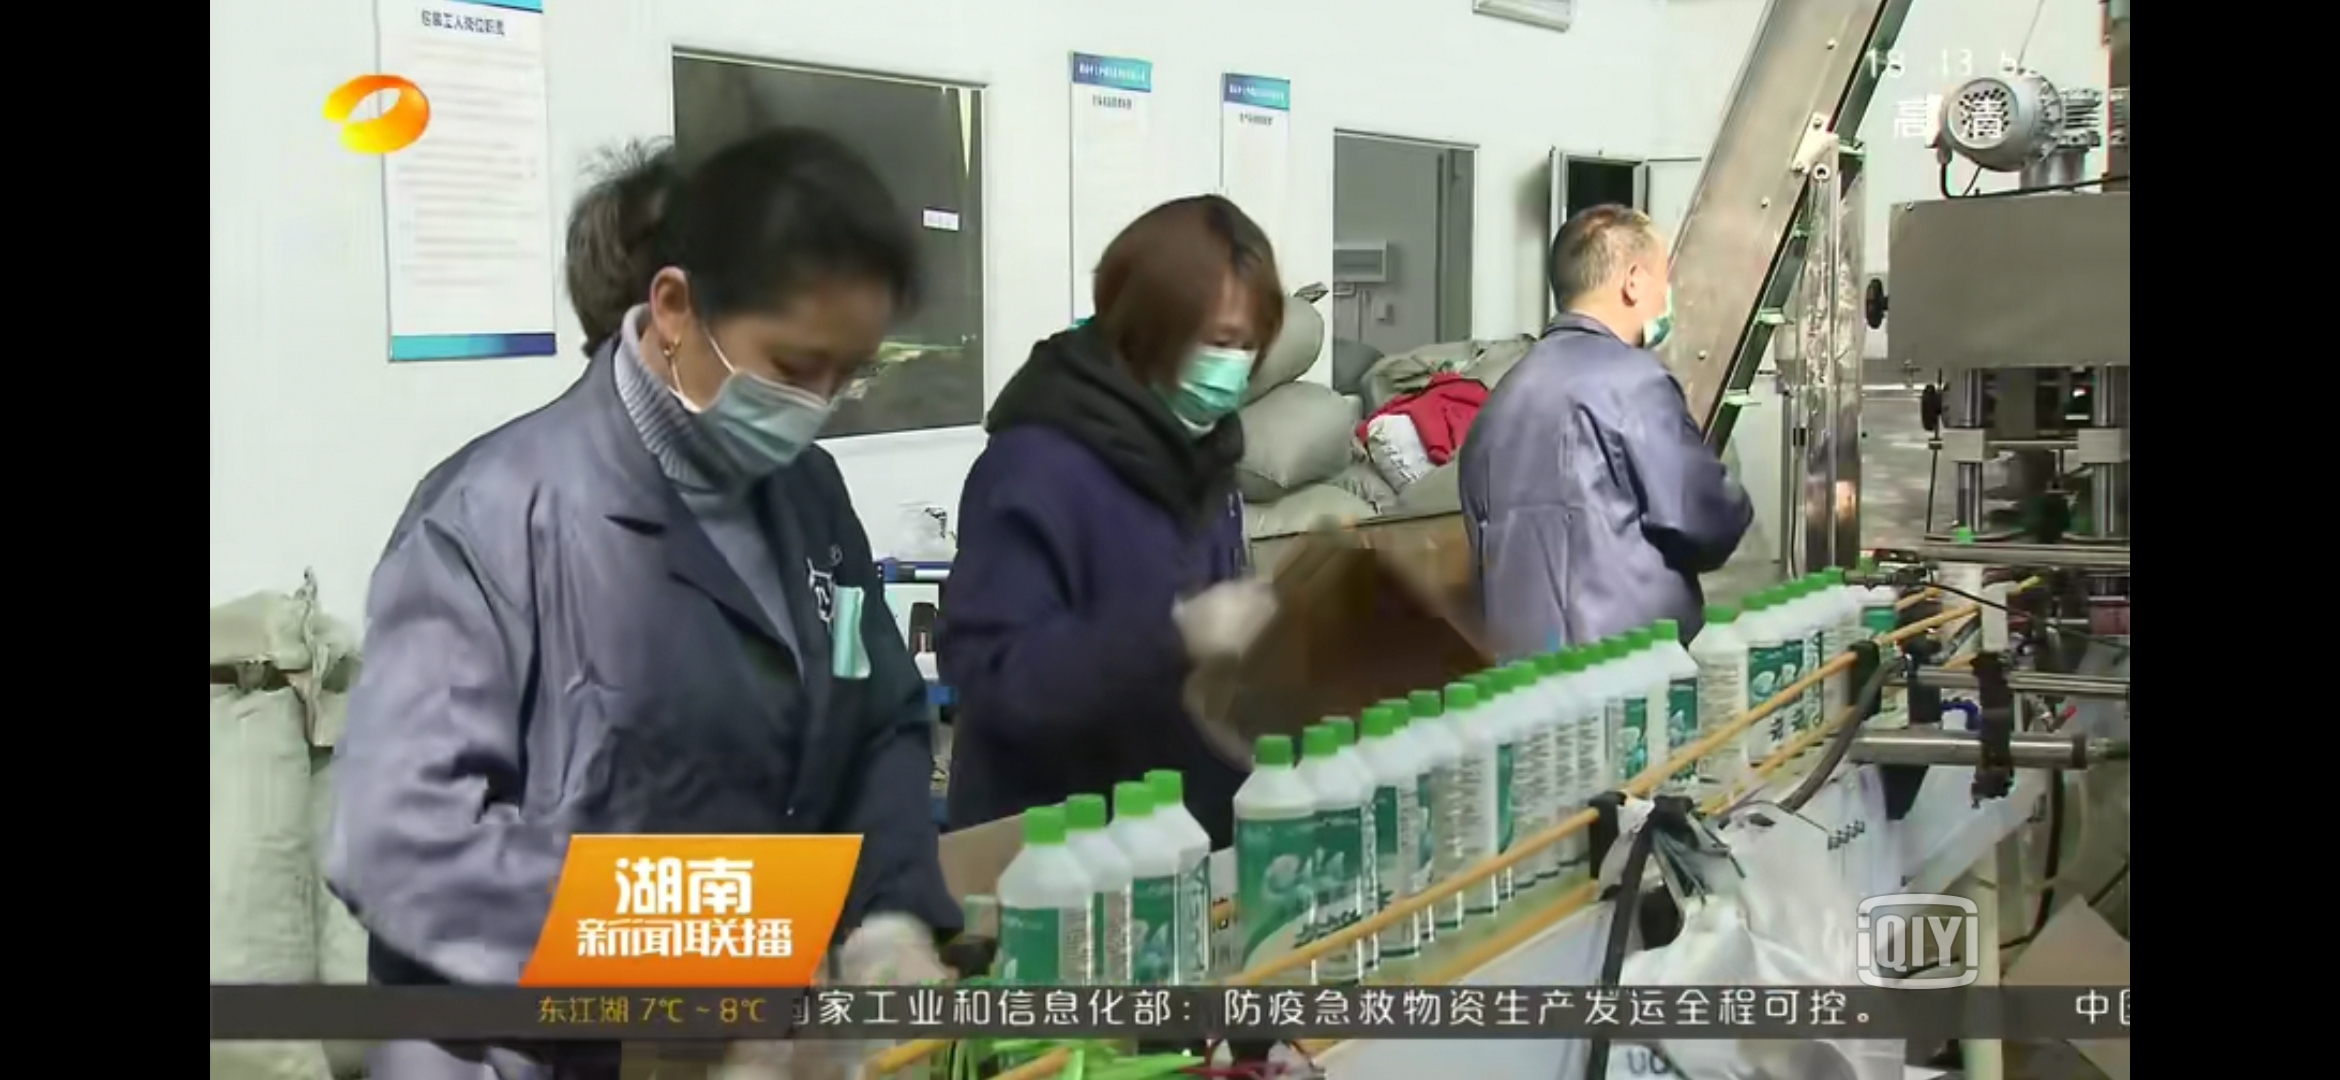correctlyWear: (642, 263, 869, 489), (1145, 313, 1267, 442), (1618, 251, 1686, 362)
